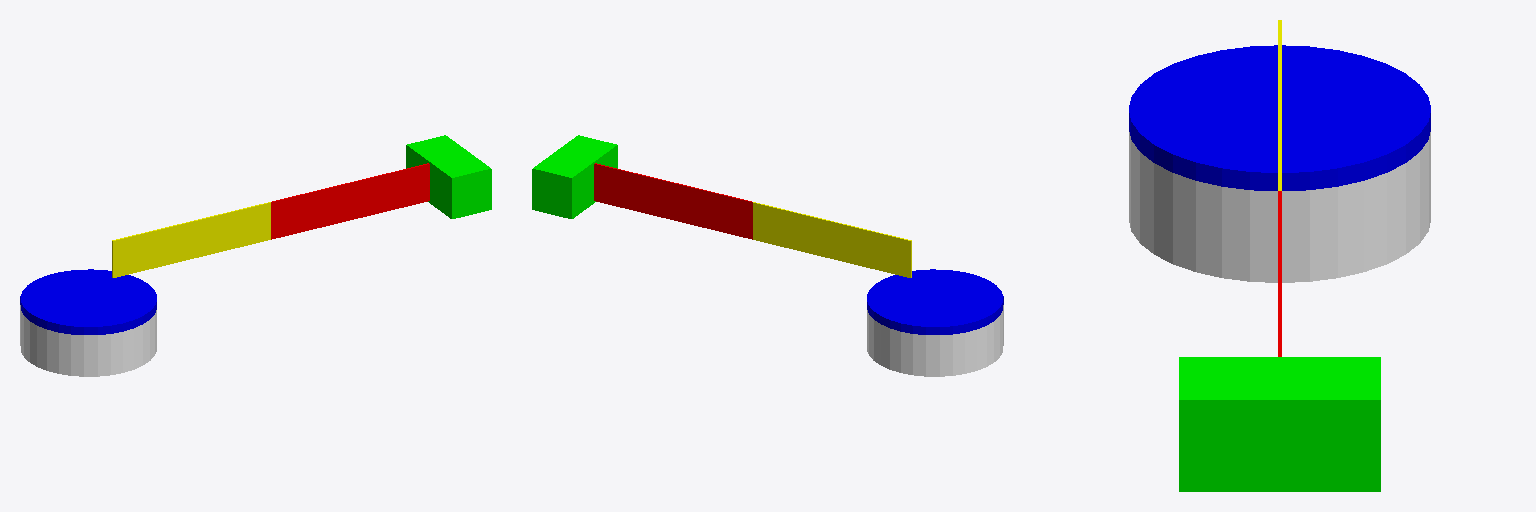
The robot description file, URDF, robot "URA":
<?xml version="1.0"?>
<robot name="URA">

    <link name="base_link">
        <visual name="base_viz">
            <origin xyz="0 0 0" rpy="0 0 0" />
            <geometry>
                <cylinder radius="0.075" length="0.05" />
            </geometry>
            <material name="White">
                <color rgba="1 1 1 1"/>
            </material>
        </visual>
    </link>

    <link name="base_plate">
        <visual name="base_plate_viz">
            <origin xyz="0 0 0" rpy="0 0 0" />
            <geometry>
                <cylinder radius="0.075" length="0.01" />
            </geometry>
            <material name="Blue">
                <color rgba="0 0 1 1"/>
            </material>
        </visual>
    </link>

    <link name="bottom_arm">
        <visual name="bottom_arm_viz">
            <origin xyz="0.1 0 0" rpy="0 0 0" />
            <geometry>
                <box size="0.20 0.002 0.045" />
            </geometry>
            <material name="Yellow">
                <color rgba="1 1 0 1"/>
            </material>
        </visual>
    </link>

    <link name="top_arm">
        <visual name="top_arm_viz">
            <origin xyz="0.1 0 0" rpy="0 0 0" />
            <geometry>
                <box size="0.20 0.002 0.045" />
            </geometry>
            <material name="Red">
                <color rgba="1 0 0 1"/>
            </material>
        </visual>
    </link>

    <link name="tool">
        <visual name="top_arm_viz">
            <origin xyz="0 -0.1 0" rpy="0 0 0" />
            <geometry>
                <box size="0.1 0.05 0.05" />
            </geometry>
            <material name="Lime">
                <color rgba="0 1 0 1"/>
            </material>
        </visual>
    </link>

    <joint name="base_rotation" type="revolute">
        <parent link="base_link"/>
        <child link="base_plate"/>
        <origin xyz="0 0 0.03" rpy="0 0 0" />
        <axis xyz="0 0 1"/>
        <limit lower="-3.14" upper="3.14" effort="10" velocity="10"/>
        <dynamics damping="50.0" friction="1.0"/>
    </joint>

    <joint name="bottom_rotation" type="revolute">
        <parent link="base_plate"/>
        <child link="bottom_arm"/>
        <origin xyz="0.03 0 0.045" rpy="0 0 0" />
        <axis xyz="0 1 0"/>
        <limit lower="0" upper="-1.57" effort="10" velocity="10"/>
        <dynamics damping="50.0" friction="1.0"/>
    </joint>

    <joint name="top_rotation" type="revolute">
        <parent link="bottom_arm"/>
        <child link="top_arm"/>
        <origin xyz="0.2 0 0" rpy="0 0 0" />
        <axis xyz="0 1 0"/>
        <limit lower="-1.57" upper="1.57" effort="10" velocity="10"/>
        <dynamics damping="50.0" friction="1.0"/>
    </joint>

    <joint name="tool_rotation" type="revolute">
        <parent link="top_arm"/>
        <child link="tool"/>
        <origin xyz="0.125 0 0" rpy="0 0 1.570796" />
        <axis xyz="0 1 0"/>
        <limit lower="-3.14" upper="3.14" effort="10" velocity="10"/>
        <dynamics damping="0.0" friction="0.0"/>
    </joint>

</robot>

--- Render facts (derived) ---
The picture shows the robot from 3 angles, left to right: view 1: azimuth 30°, elevation 25°; view 2: azimuth 150°, elevation 25°; view 3: azimuth 270°, elevation 25°; orthographic projection.
Robot: URA — 5 links, 4 joints (4 revolute); root link base_link; default pose: all joints at 0.
Visible links, largest first — view 1: base_plate, top_arm, bottom_arm, base_link, tool; view 2: base_plate, top_arm, bottom_arm, base_link, tool; view 3: base_plate, base_link, tool, bottom_arm, top_arm.
Link boxes in pixels (x1,y1,x2,y2): base_plate: [20, 269, 156, 334]; top_arm: [271, 163, 429, 239]; bottom_arm: [112, 202, 270, 277]; base_link: [20, 305, 156, 376]; tool: [406, 135, 491, 218]; base_plate: [867, 269, 1003, 334]; top_arm: [594, 163, 752, 239]; bottom_arm: [753, 202, 911, 277]; base_link: [867, 305, 1003, 376]; tool: [532, 135, 617, 218]; base_plate: [1129, 45, 1430, 190]; base_link: [1129, 132, 1430, 282]; tool: [1179, 357, 1380, 491]; bottom_arm: [1278, 20, 1281, 190]; top_arm: [1278, 191, 1281, 356].
Bounding box of the posed robot: 0.555 × 0.15 × 0.125 m (x, y, z).
Geometry: primitives only (box / cylinder / sphere), no mesh files.